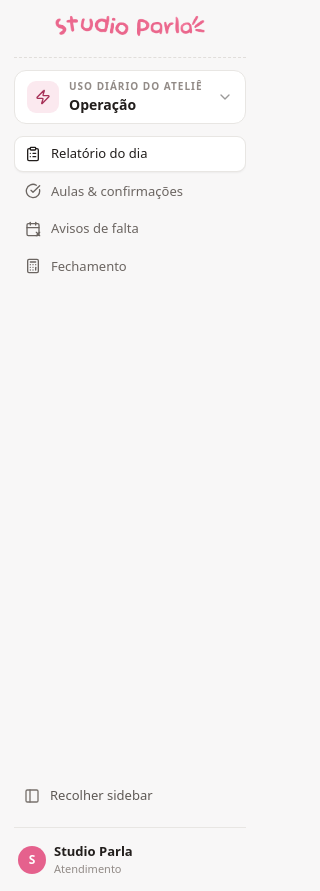
Scenario: sidebar do app enxuto › não oferece o workspace Financeiro para atendimento
Click the dropdown named "Workspace" at (130, 97), box [14,70,246,124]
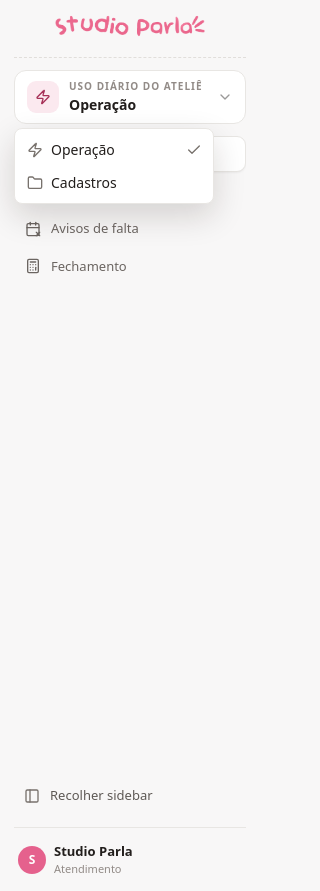
Check: the number of options is 2, box [19,133,209,166]; [27,173,117,192]
